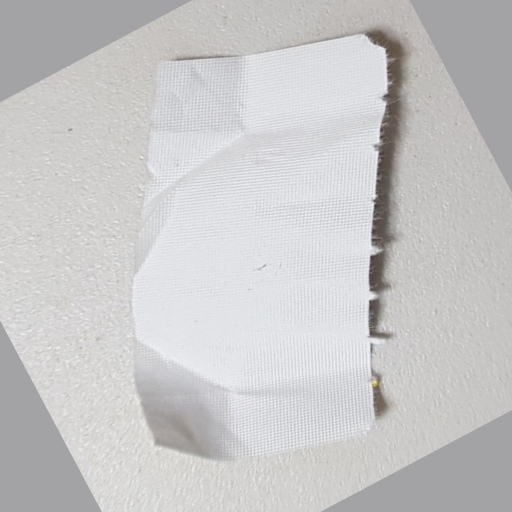Paper_3: (112, 35, 428, 468)
